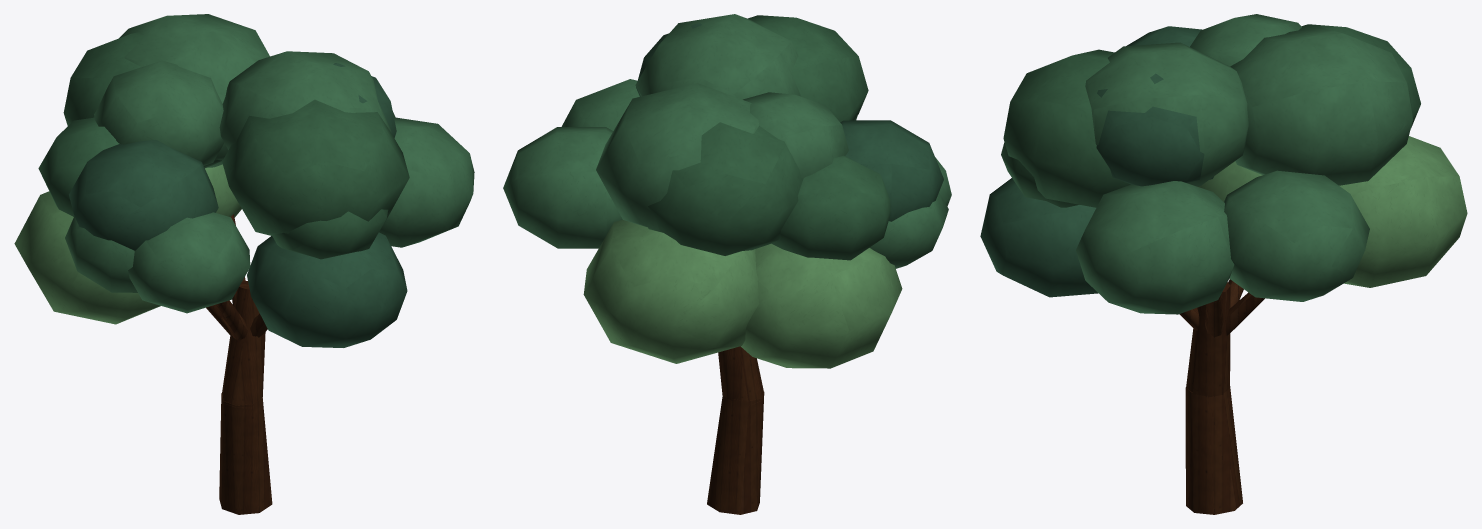
Rendered from env_tree_broadleaf.glb.
3 renders of one model, left to right at view 1: azimuth 30°, elevation 25°; view 2: azimuth 150°, elevation 25°; view 3: azimuth 270°, elevation 25°, orthographic. The views are drawn at different scales.
Visible parts, largest first — view 1: env_tree_broadleaf; view 2: env_tree_broadleaf; view 3: env_tree_broadleaf.
Boxes of the visible parts, left/top/right/bottom form: env_tree_broadleaf: left=14, top=14, right=474, bottom=514; env_tree_broadleaf: left=503, top=14, right=951, bottom=514; env_tree_broadleaf: left=980, top=14, right=1467, bottom=514.
Bounding box in the file's own units: 5.77 × 6.54 × 6.12.
2 materials, 2 textured.
